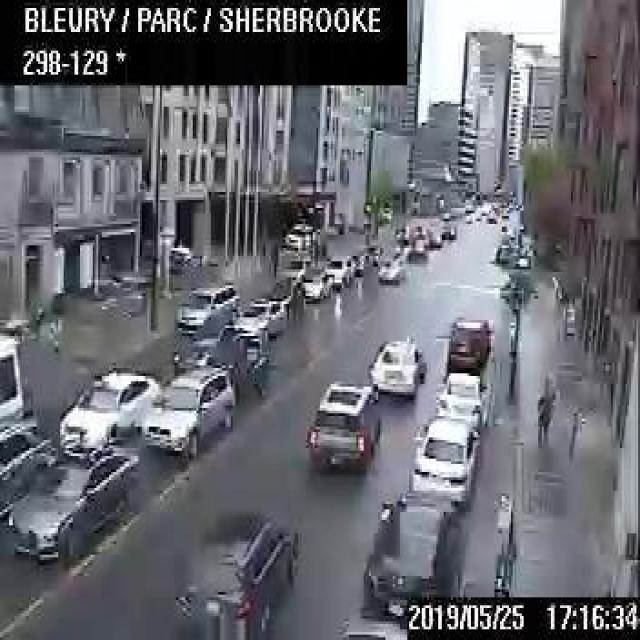pedestrian: (534, 374, 553, 446), (566, 399, 581, 464)
vehicle: (167, 507, 296, 638), (8, 440, 139, 562), (361, 489, 463, 624), (57, 368, 159, 450), (141, 367, 234, 455), (304, 378, 379, 469), (408, 414, 478, 505), (0, 416, 56, 522), (173, 319, 245, 370), (172, 281, 238, 332), (434, 369, 492, 426), (367, 337, 425, 394), (446, 314, 492, 371), (233, 296, 286, 340), (0, 334, 22, 422), (264, 275, 305, 318), (338, 614, 404, 638), (298, 264, 332, 299), (324, 253, 352, 287), (282, 220, 311, 247), (375, 256, 404, 282), (404, 235, 425, 261), (422, 228, 441, 247), (440, 221, 454, 237)
